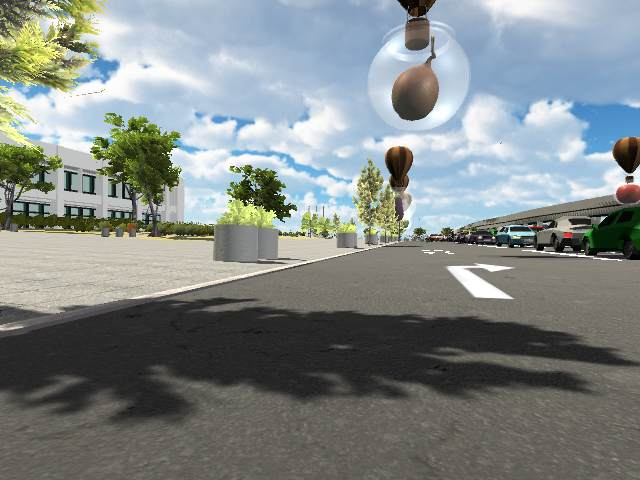ground_right: (442, 259, 518, 275)
